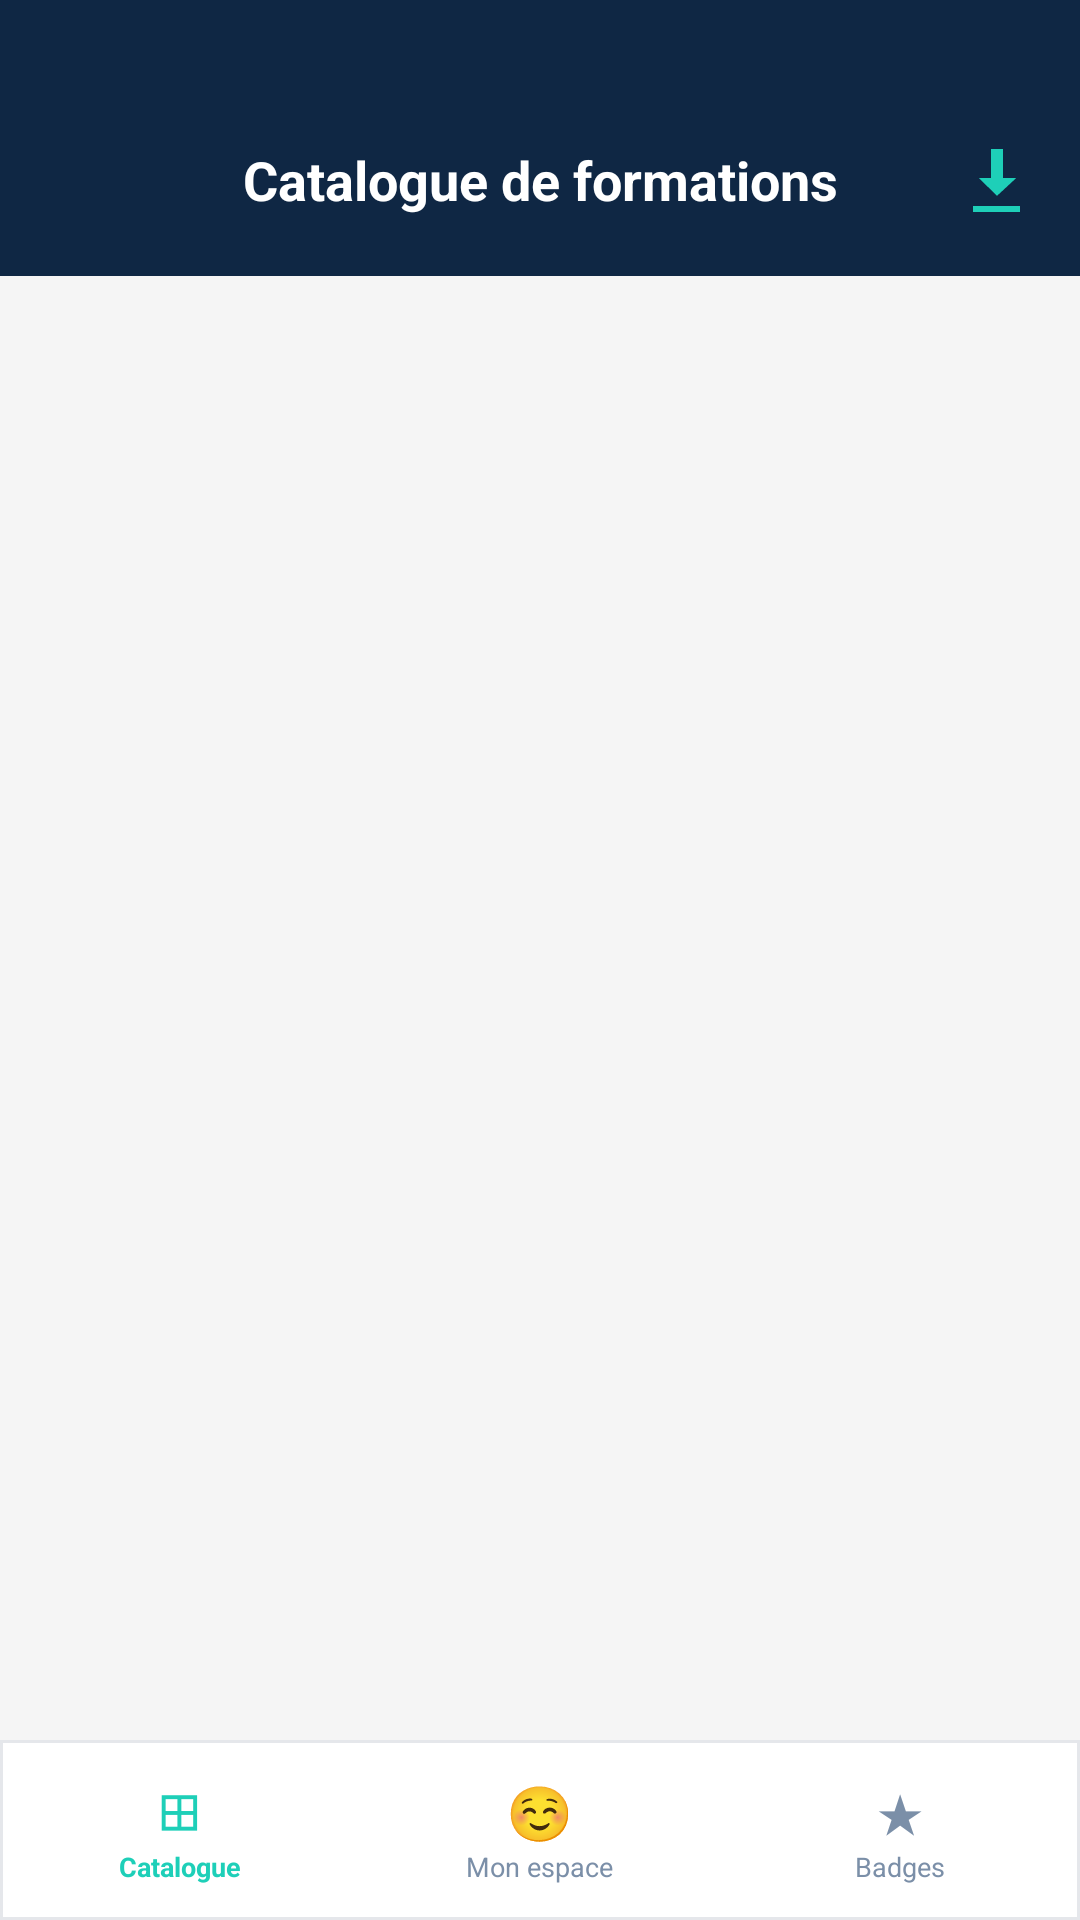

Point at icon controls on the screen. Image size 1080×1920, points as (x,y).
Mes formations offline: (996,180)
